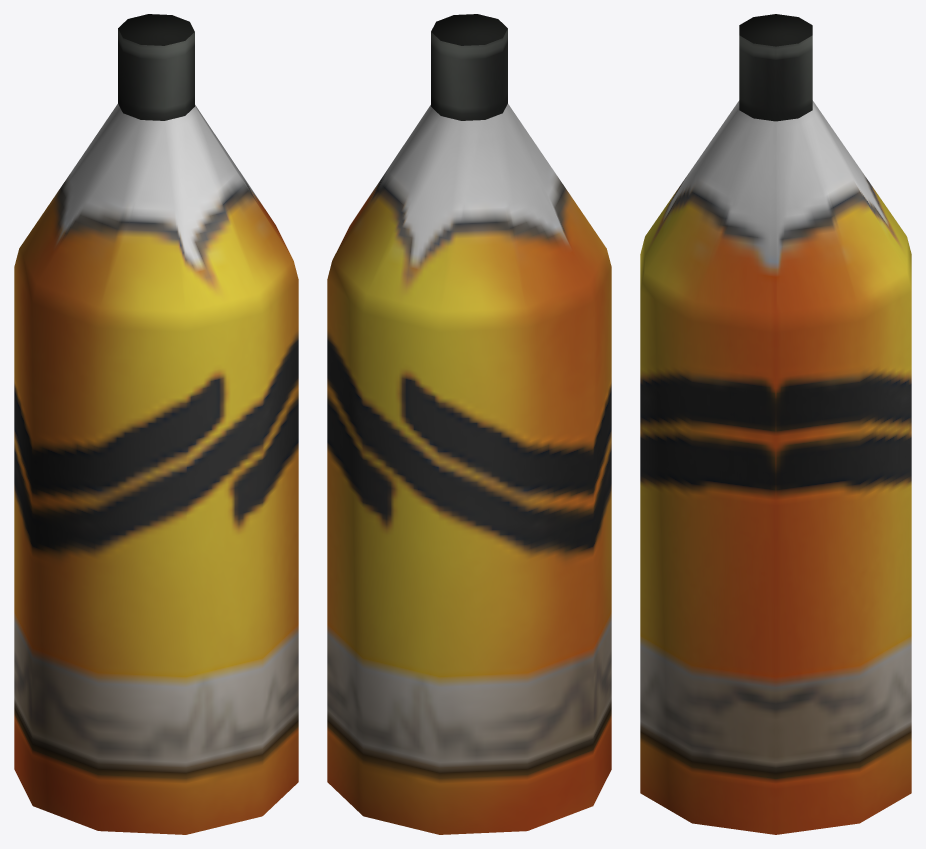
The model's file is G_DanShenHan_pingzi_03.FBX.
3 views of the same model, side by side, from view 1: azimuth 30°, elevation 25°; view 2: azimuth 150°, elevation 25°; view 3: azimuth 270°, elevation 25° (orthographic).
Visible parts, largest first — view 1: DanShenHan_pingzi_03; view 2: DanShenHan_pingzi_03; view 3: DanShenHan_pingzi_03.
Part boxes in pixels (x1,y1,x2,y2): DanShenHan_pingzi_03: [14, 14, 298, 834]; DanShenHan_pingzi_03: [327, 14, 611, 834]; DanShenHan_pingzi_03: [640, 14, 911, 834].
Size of the model in its own units: 17.77 by 51.19 by 16.91.
